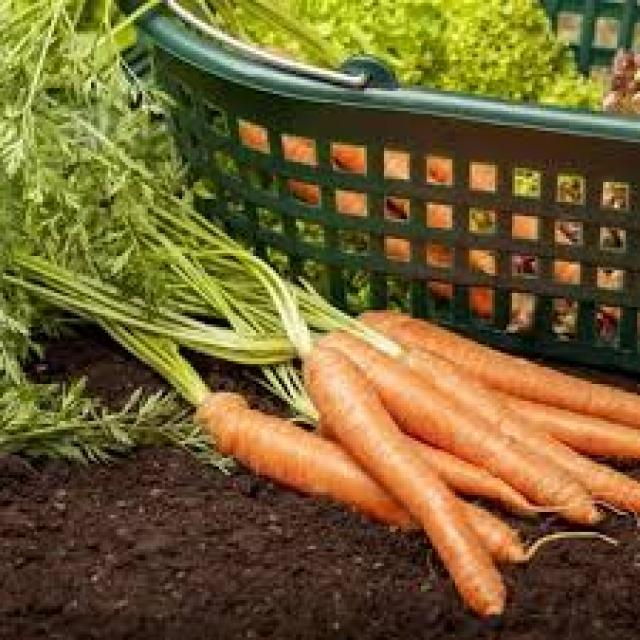organic waste: (0, 0, 191, 458), (191, 387, 529, 563), (119, 214, 407, 416), (296, 341, 503, 609), (316, 327, 597, 518), (364, 324, 637, 512), (233, 114, 489, 310), (222, 0, 600, 108), (347, 301, 637, 424), (330, 136, 512, 284), (435, 154, 612, 296), (324, 410, 563, 514), (487, 378, 638, 461), (597, 45, 637, 114)
